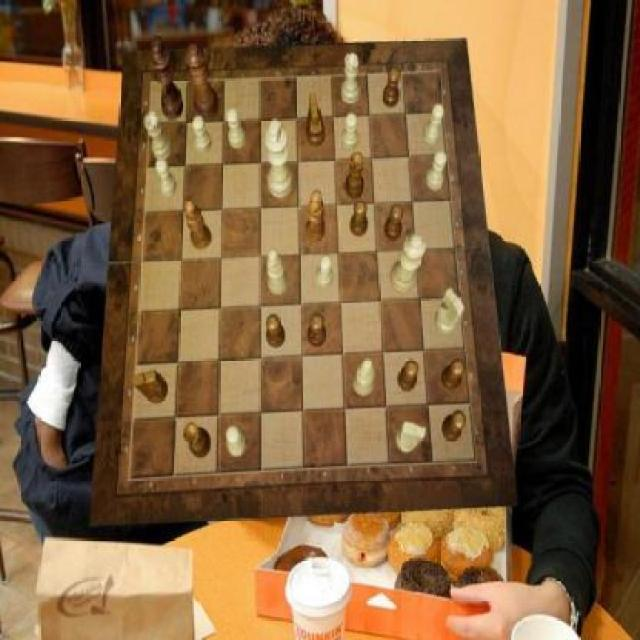bishop: (186, 200, 212, 251), (306, 189, 326, 243)
black-bishop: (151, 36, 184, 120)
black-king: (132, 369, 168, 404), (306, 92, 326, 147)
black-knight: (442, 411, 466, 443), (443, 360, 466, 392), (383, 68, 400, 109), (266, 314, 286, 348), (385, 203, 402, 241), (398, 360, 418, 392), (351, 199, 368, 236), (308, 315, 325, 348)
black-pawn: (185, 43, 220, 118)
black-queen: (183, 422, 211, 458), (346, 152, 364, 200)
black-rook: (266, 250, 289, 296), (352, 357, 375, 395)
white-bishop: (266, 118, 294, 198)
white-king: (436, 289, 466, 335), (396, 421, 426, 454)
white-knight: (423, 103, 444, 145), (156, 158, 177, 198), (426, 151, 447, 191), (226, 108, 246, 149), (192, 115, 212, 153), (343, 112, 360, 150), (226, 425, 246, 457), (315, 256, 333, 290)
white-pawn: (391, 234, 426, 294)
white-queen: (145, 112, 172, 160), (342, 54, 361, 106)
